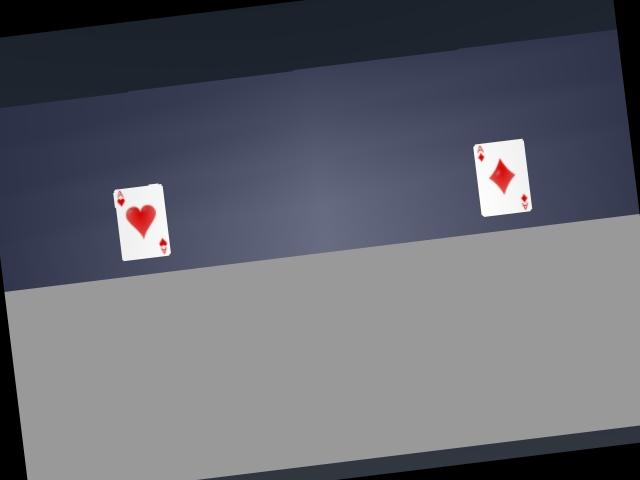diamond: (472, 138, 534, 218)
heart: (114, 184, 170, 260)
